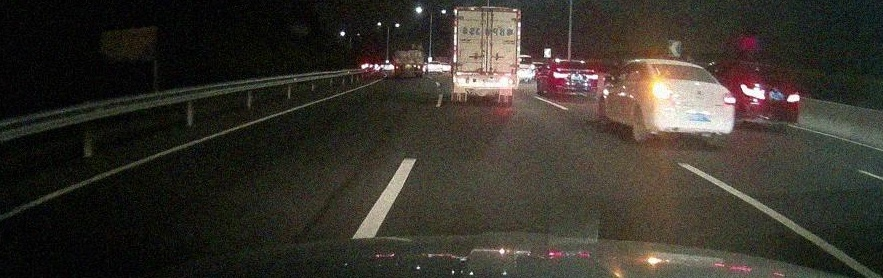L_light: (740, 84, 766, 99), (649, 86, 673, 100), (553, 70, 568, 78), (457, 78, 468, 84)
R_light: (722, 91, 735, 105), (786, 93, 800, 103), (500, 78, 512, 85), (586, 73, 597, 80)
T_light: (673, 64, 688, 69), (481, 10, 493, 16), (568, 61, 578, 64)
night-left: (643, 59, 736, 144)
night-no: (451, 6, 521, 104), (737, 61, 801, 128), (550, 58, 598, 98)
